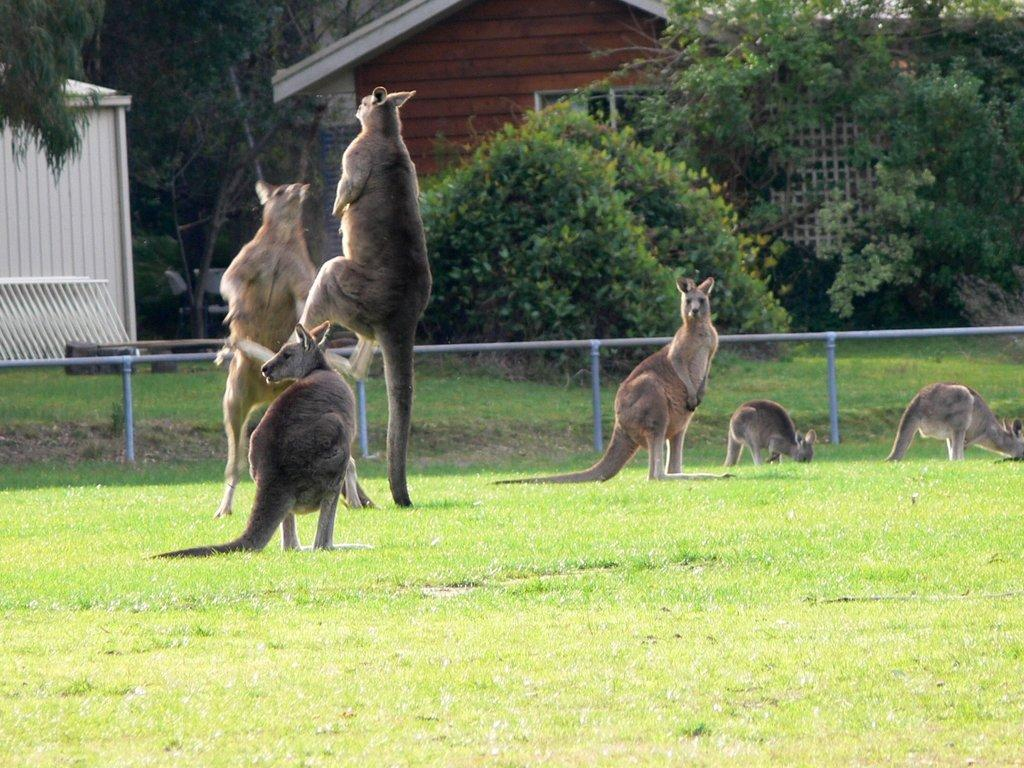kangaroo: (299, 89, 438, 503), (212, 179, 377, 512), (484, 280, 736, 484), (138, 326, 358, 552), (880, 380, 1023, 467), (713, 404, 816, 469)
